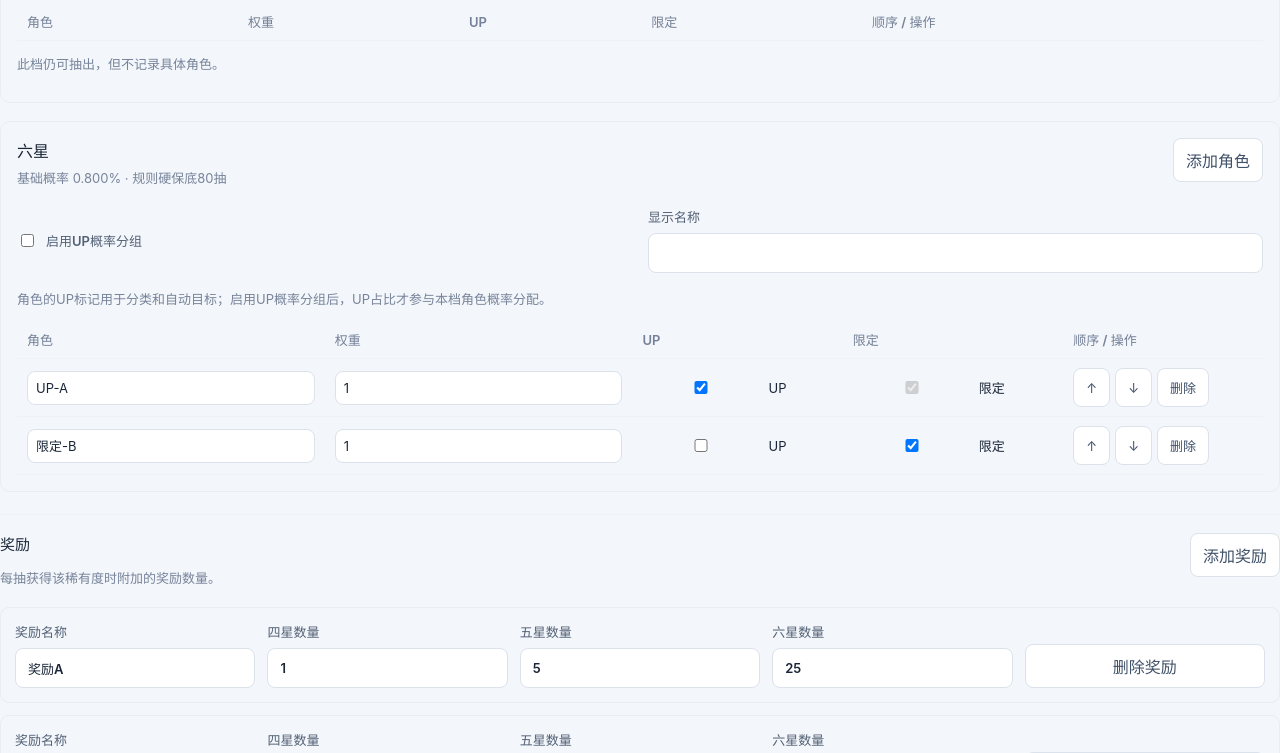
Scenario: removes a deleted character's invalid weight and keeps the remaining roster valid
(page scrolled)
Replace the text in the 1st field named "角色权重" with "0" at {"x": 479, "y": 388}, box [335, 370, 622, 404]
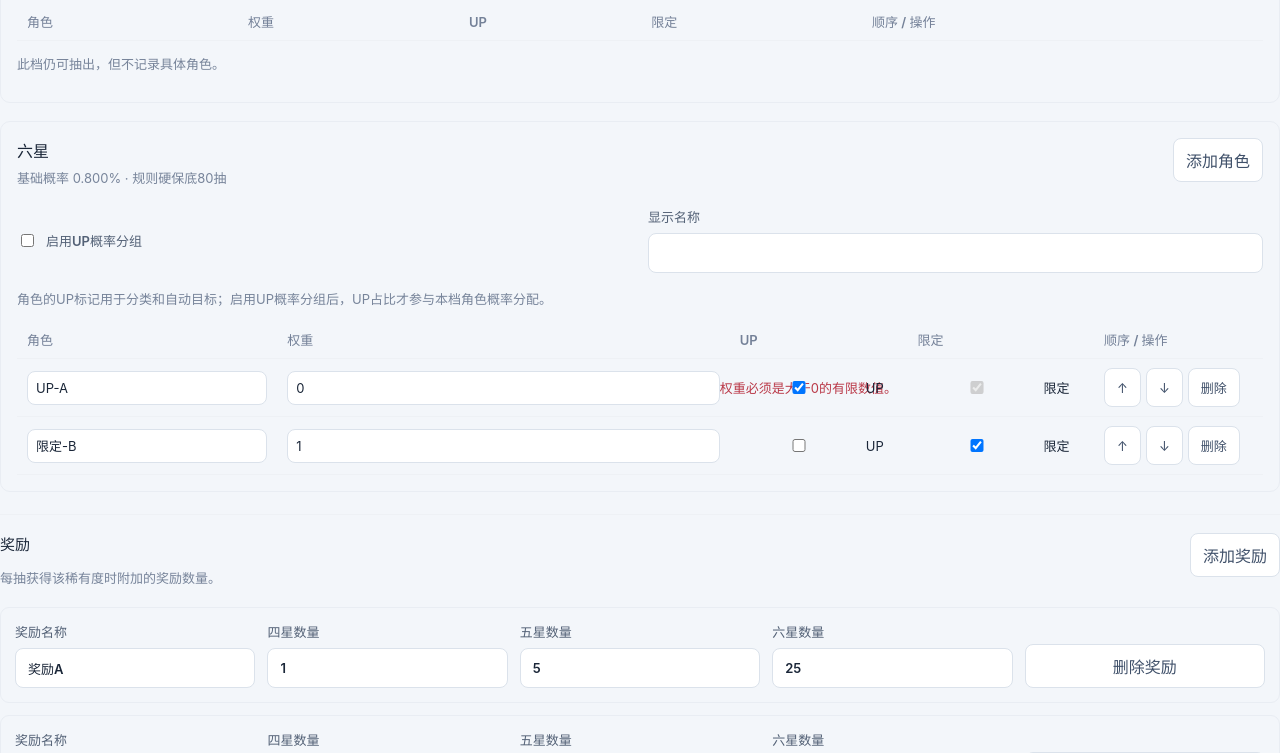
Now the text "权重必须是大于0的有限数值。" is shown, box [720, 380, 897, 396]
Click the button "删除" in the row of "权重必须是大于0的有限数值。" at {"x": 1214, "y": 388}, box [1188, 368, 1240, 407]
(page scrolled)
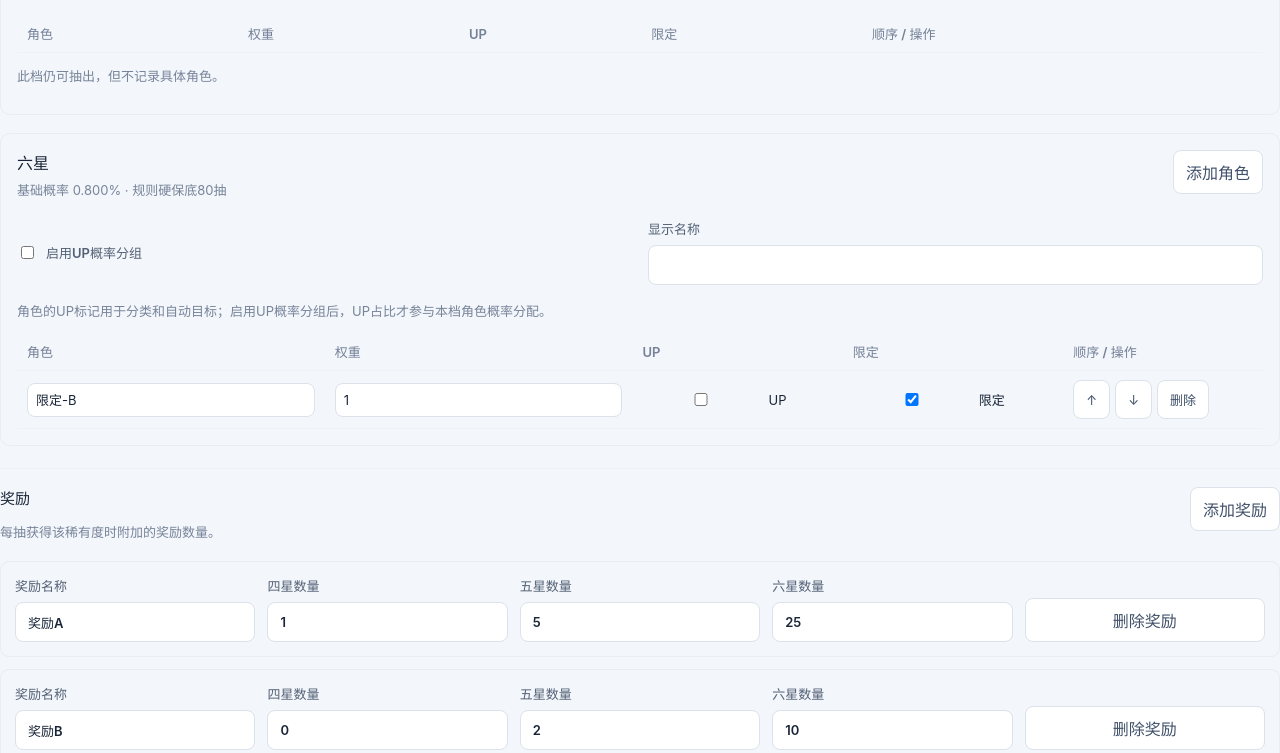
Now the text "权重必须是大于0的有限数值。" is gone
